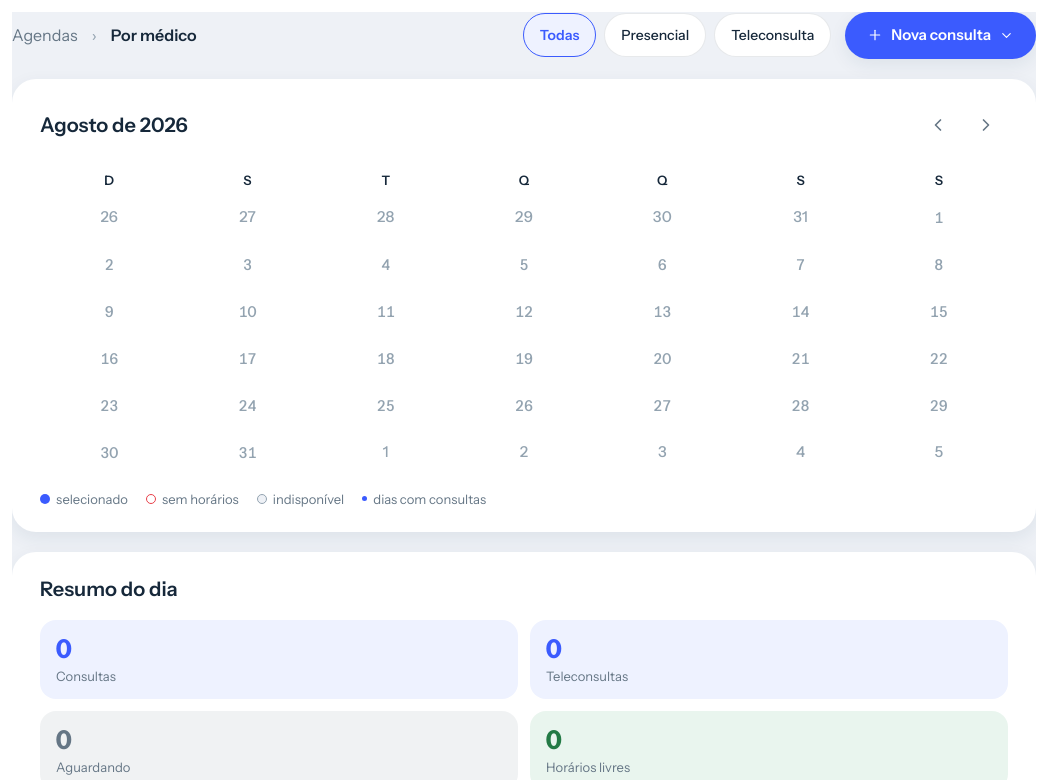
Scenario: desabilita a consulta rápida e explica quando não há médico ativo
Click the button "Nova consulta": (941, 35) left=845, top=12, right=1036, bottom=58
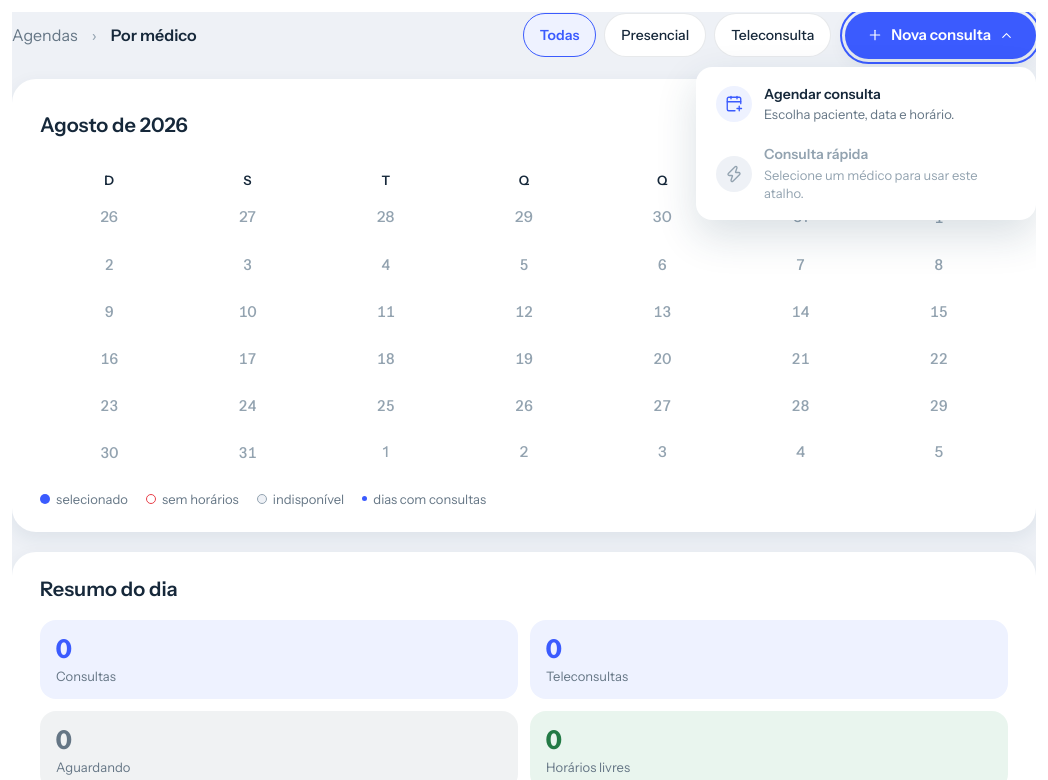
Expected: the menu item "Consulta rápida Selecione um médico para usar este atalho." is disabled, left=704, top=135, right=1028, bottom=212
Expected: the text "Selecione um médico para usar este atalho." is shown, left=764, top=167, right=978, bottom=201
Expected: the menu item "Agendar consulta Escolha paciente, data e horário." is enabled, left=704, top=74, right=1028, bottom=133
